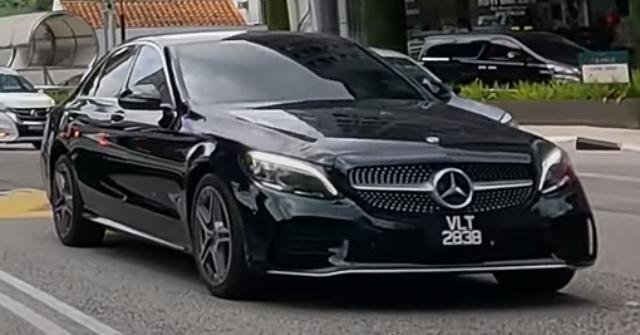License_Plate: (430, 215, 495, 247)
car: (39, 29, 622, 300)
